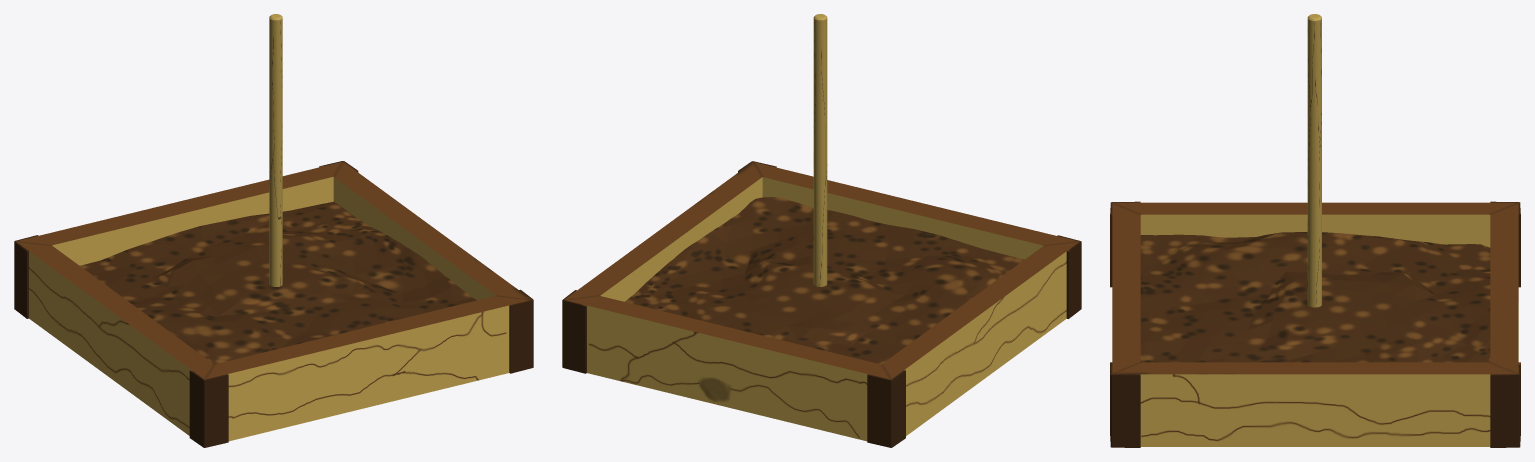
Rendered from BasicFarm.glb.
3 views of the same model, side by side, from view 1: azimuth 30°, elevation 25°; view 2: azimuth 150°, elevation 25°; view 3: azimuth 270°, elevation 25° (orthographic). The views are drawn at different scales.
Visible parts, largest first — view 1: PlotFrame, Soil, FarmPole; view 2: PlotFrame, Soil, FarmPole; view 3: PlotFrame, Soil, FarmPole.
Part boxes in pixels (x1=…): PlotFrame: x1=14, y1=161, x2=533, y2=447; Soil: x1=80, y1=201, x2=476, y2=364; FarmPole: x1=269, y1=14, x2=282, y2=286; PlotFrame: x1=562, y1=161, x2=1081, y2=447; Soil: x1=625, y1=197, x2=1024, y2=364; FarmPole: x1=813, y1=14, x2=827, y2=286; PlotFrame: x1=1110, y1=201, x2=1520, y2=447; Soil: x1=1140, y1=232, x2=1490, y2=362; FarmPole: x1=1307, y1=14, x2=1321, y2=307.
Bounding box in the file's own units: 4.35 × 4.04 × 4.35.
3 materials, 3 textured.
